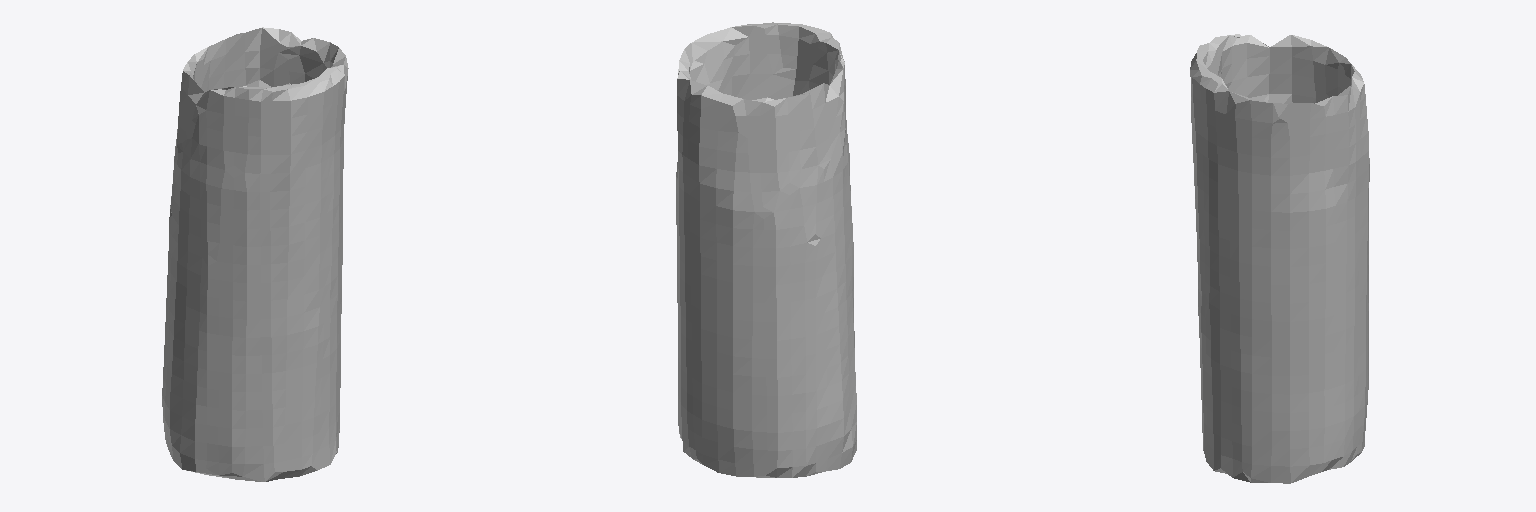
Rendered from 3DModel_LowPoly2.obj.
The picture shows the model from 3 angles: view 1: azimuth 30°, elevation 25°; view 2: azimuth 150°, elevation 25°; view 3: azimuth 270°, elevation 25°; orthographic projection.
Parts seen in each view (by area): view 1: toiletrulle-low; view 2: toiletrulle-low; view 3: toiletrulle-low.
Part boxes in pixels (x1,y1,x2,y2): toiletrulle-low: (162, 27, 348, 481); toiletrulle-low: (676, 22, 856, 477); toiletrulle-low: (1190, 34, 1369, 483).
Bounding box in the file's own units: 0.0497 × 0.1169 × 0.0477.